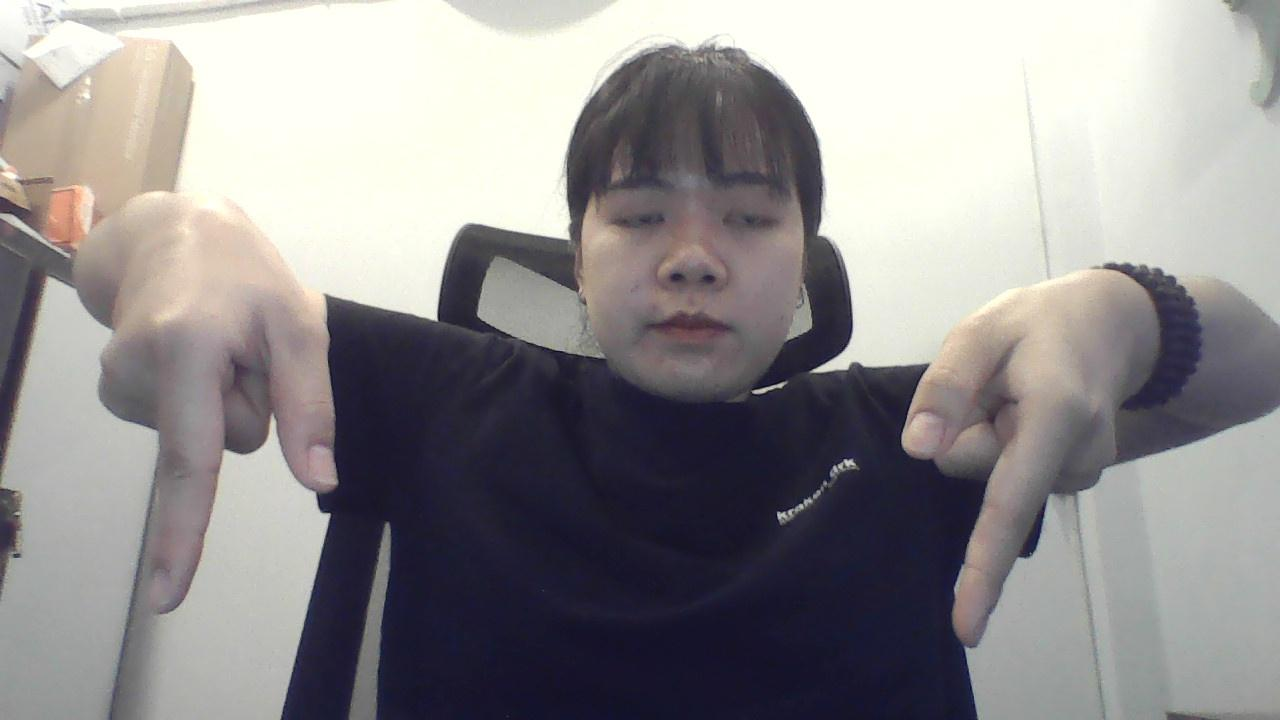Q: (99, 227, 342, 636), (884, 266, 1122, 664)
